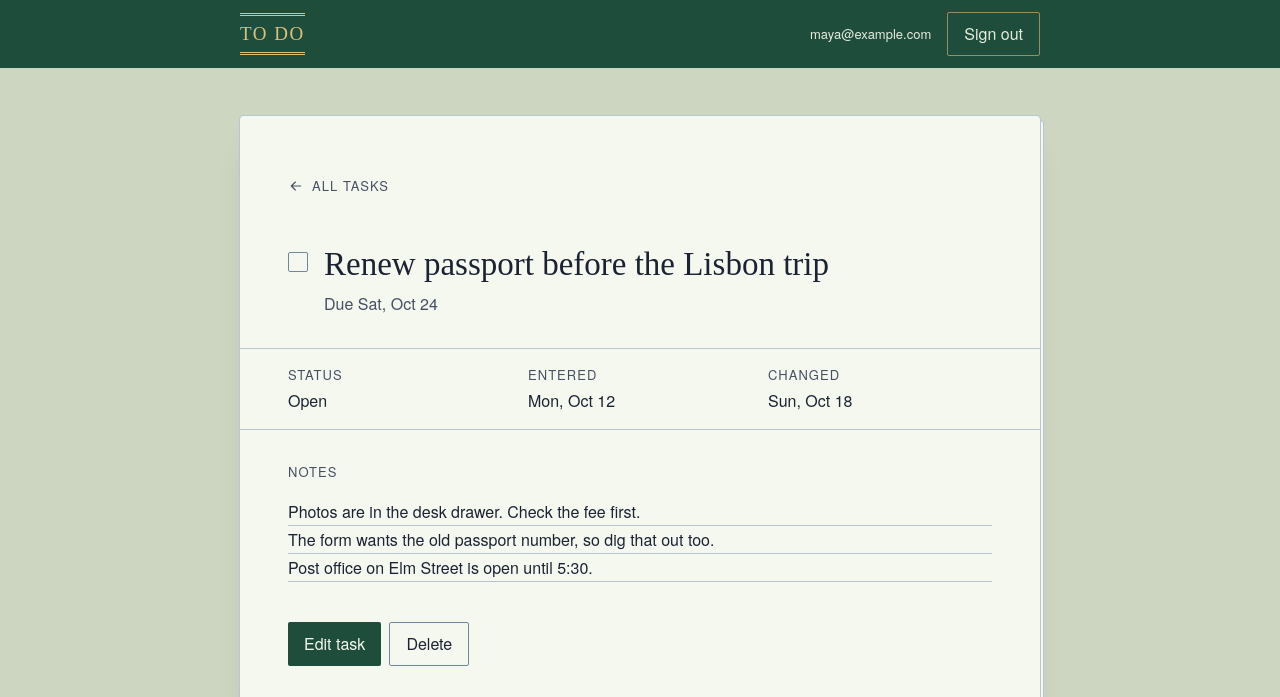
Test: TaskDetailPage › shows server field errors next to the field
The image size is (1280, 697).
Click the button "Edit task": (335, 644) [288, 622, 381, 666]
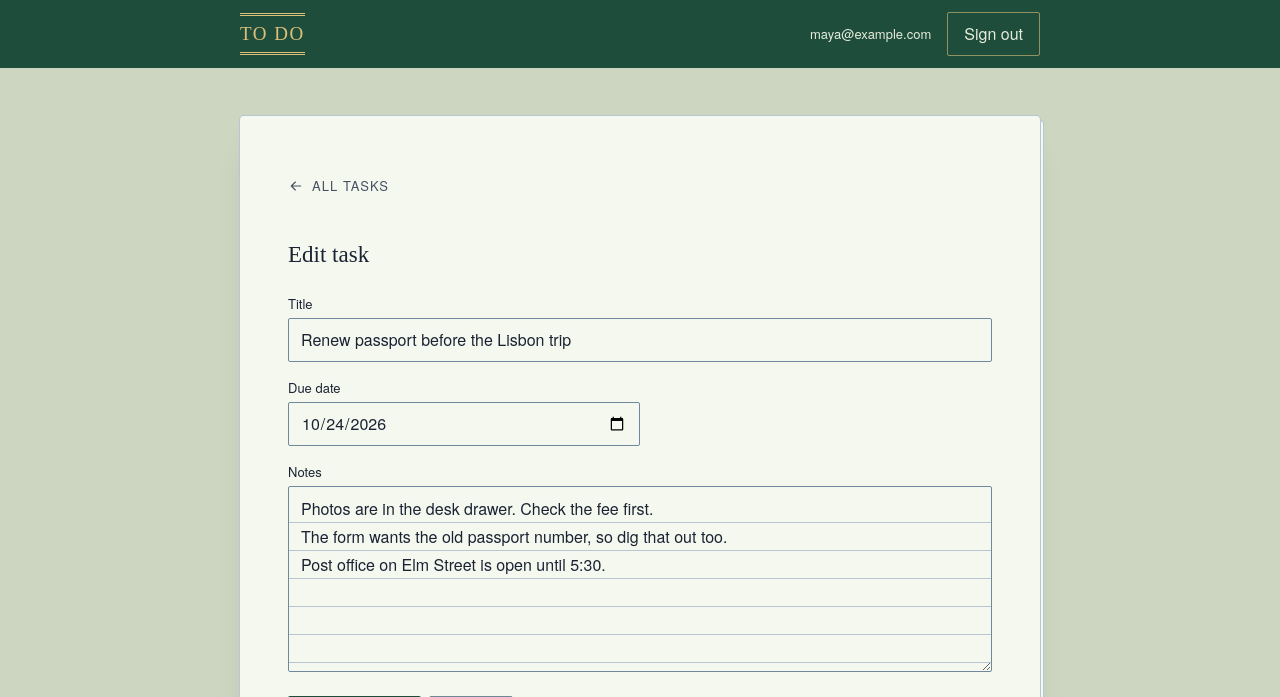
Replace the text in the field labelled "Title" with "My title": (640, 340) [288, 318, 992, 362]
(page scrolled)
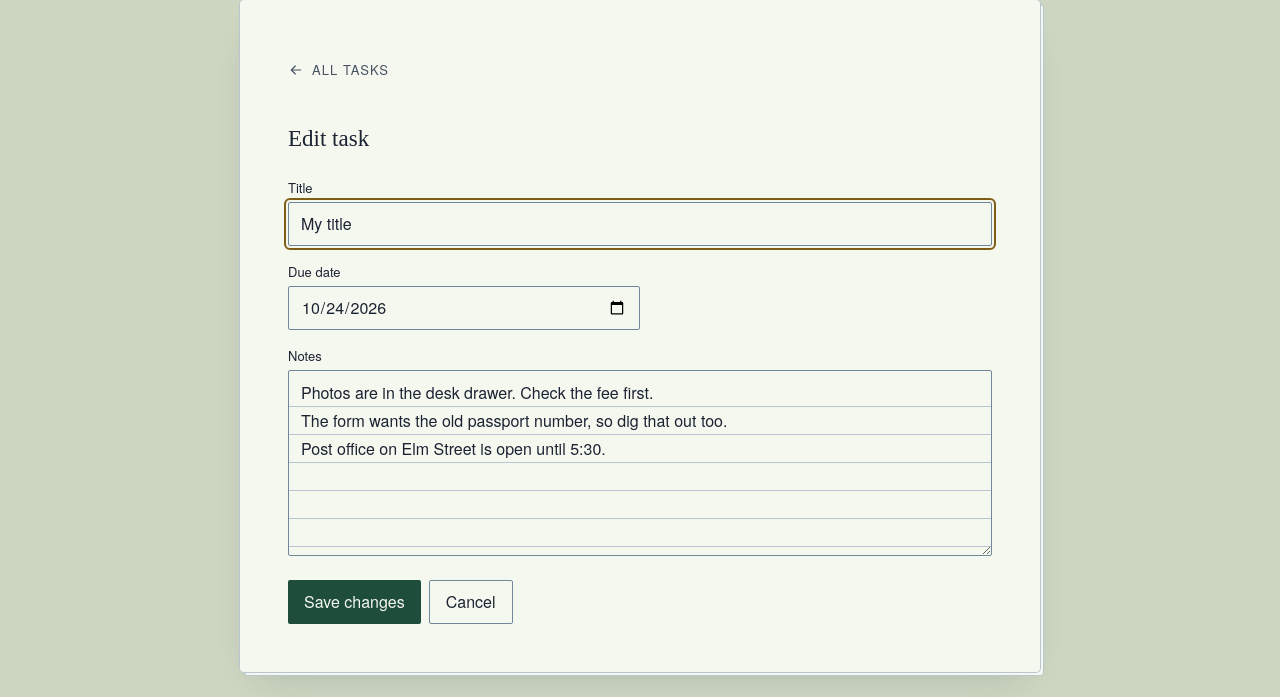
Click the button "Save changes": (354, 602) [288, 580, 421, 624]
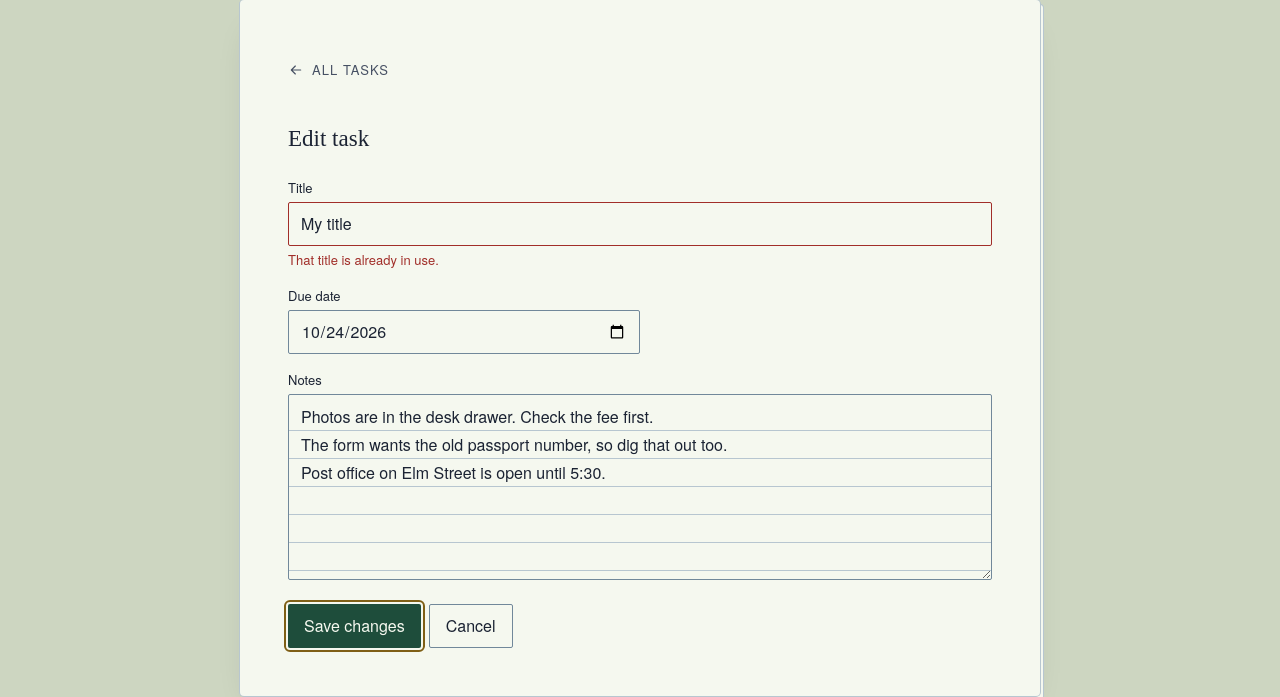
Expected: the text "That title is already in use." is shown, [288, 250, 439, 269]
